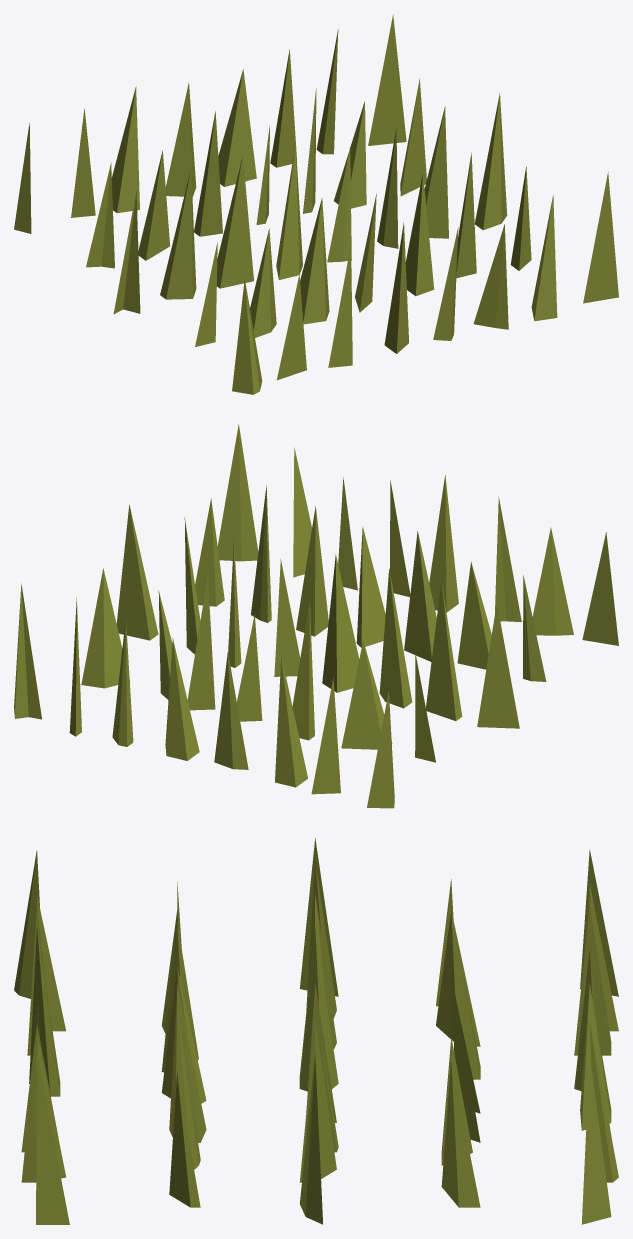
The model's file is farm_plants_3_yellow_mat.fbx.
3 views of the same model, one above another, from view 1: azimuth 30°, elevation 25°; view 2: azimuth 150°, elevation 25°; view 3: azimuth 270°, elevation 25° (orthographic). The views are drawn at different scales.
Parts seen in each view (by area): view 1: farm_plants_3_yellow_mat; view 2: farm_plants_3_yellow_mat; view 3: farm_plants_3_yellow_mat.
Boxes of the visible parts, x1=… form: farm_plants_3_yellow_mat: x1=14, y1=14, x2=618, y2=394; farm_plants_3_yellow_mat: x1=14, y1=424, x2=618, y2=808; farm_plants_3_yellow_mat: x1=14, y1=838, x2=618, y2=1224.
Size of the model in its own units: 199 by 61.5 by 205.
